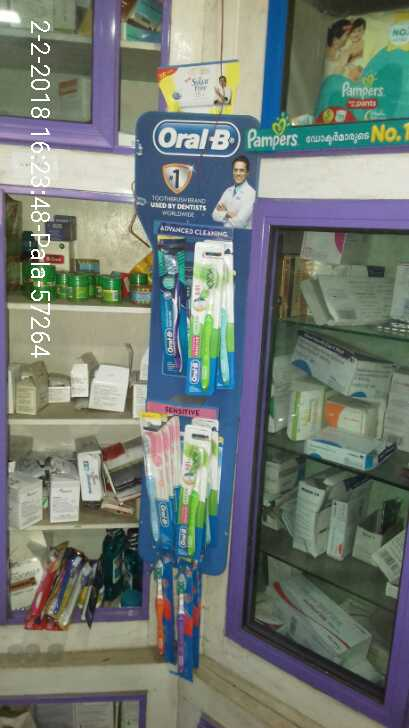pharmacy: (311, 8, 409, 124), (181, 244, 234, 391), (171, 435, 226, 551), (132, 409, 172, 544), (169, 561, 208, 670), (157, 246, 186, 388), (145, 559, 170, 652)
